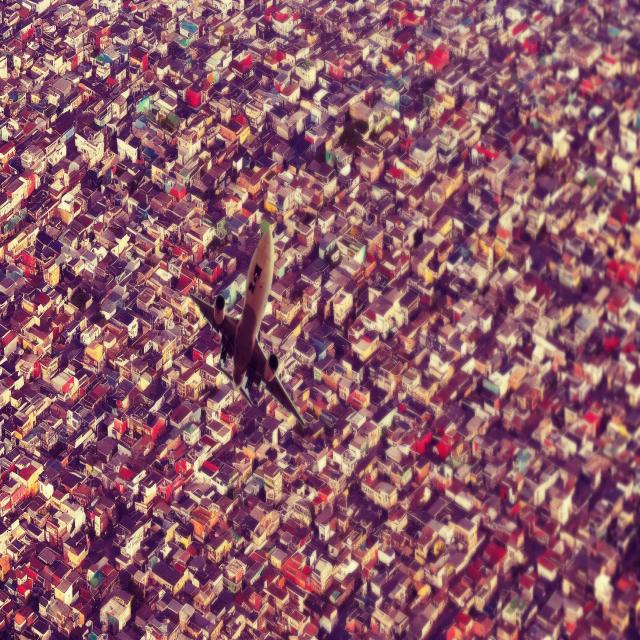airplane: (188, 219, 308, 430)
